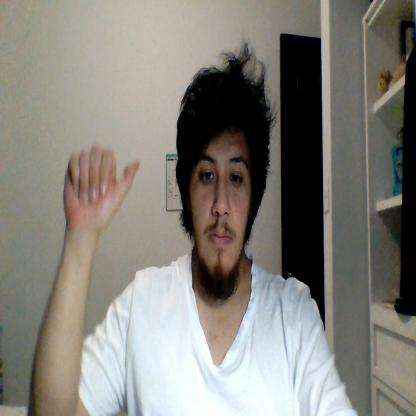A: (63, 145, 140, 231)
